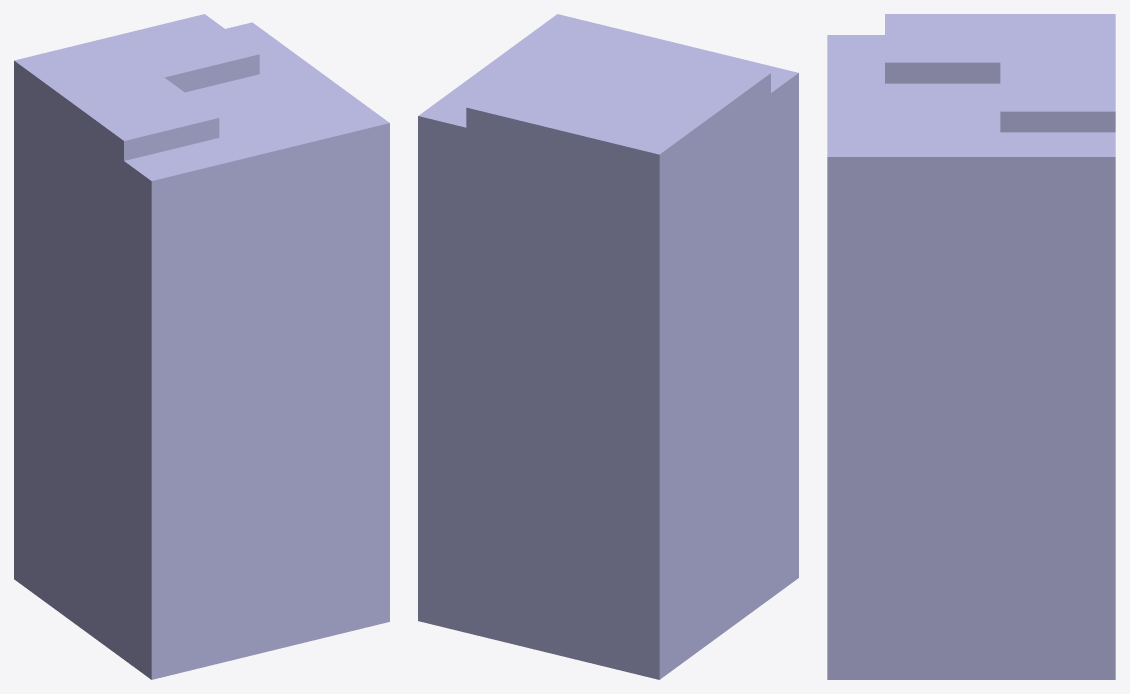
Rendered from boxfoot.dae.
The picture shows the model from 3 angles, left to right: view 1: azimuth 30°, elevation 25°; view 2: azimuth 150°, elevation 25°; view 3: azimuth 270°, elevation 25°; orthographic projection. The views are drawn at different scales.
Visible parts, largest first — view 1: node_8ecd3807_81b0_4f63_9b2e_877fe05f466d_mesh0; view 2: node_8ecd3807_81b0_4f63_9b2e_877fe05f466d_mesh0; view 3: node_8ecd3807_81b0_4f63_9b2e_877fe05f466d_mesh0.
Part boxes in pixels (x1,y1,x2,y2): node_8ecd3807_81b0_4f63_9b2e_877fe05f466d_mesh0: (14, 14, 389, 679); node_8ecd3807_81b0_4f63_9b2e_877fe05f466d_mesh0: (418, 14, 798, 679); node_8ecd3807_81b0_4f63_9b2e_877fe05f466d_mesh0: (827, 14, 1115, 679).
Size of the model in its own units: 10 by 10 by 20.8.
